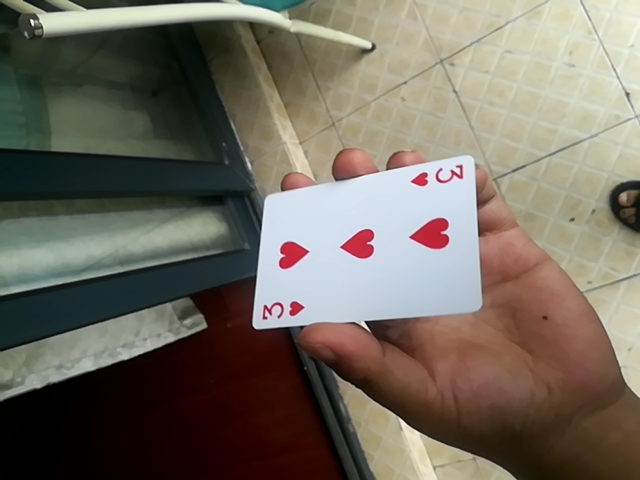hx 3: (249, 155, 480, 334)
